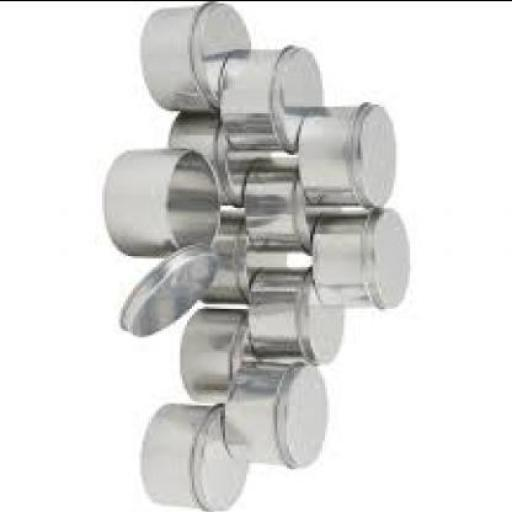metal: (105, 144, 220, 256), (142, 399, 254, 508), (143, 0, 251, 106), (223, 42, 325, 148), (228, 361, 330, 464), (225, 101, 325, 202), (301, 101, 398, 204), (315, 206, 410, 308), (120, 244, 218, 336), (254, 268, 348, 362), (180, 304, 268, 400), (204, 213, 290, 301), (249, 154, 320, 246), (173, 108, 242, 202)
